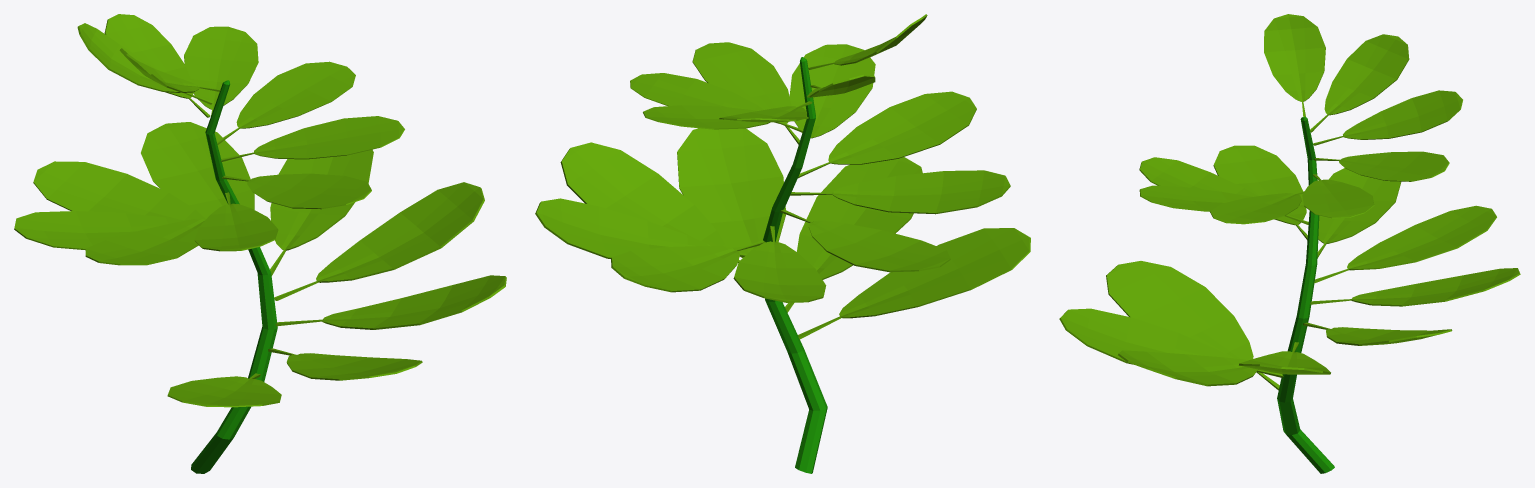
The model's file is FlowerGreen.fbx.
3 renders of one model, left to right at view 1: azimuth 30°, elevation 25°; view 2: azimuth 150°, elevation 25°; view 3: azimuth 270°, elevation 25°, orthographic. The views are drawn at different scales.
Visible parts, largest first — view 1: FlowerGreen; view 2: FlowerGreen; view 3: FlowerGreen.
Part boxes in pixels (x1,y1,x2,y2): FlowerGreen: (14,14,506,473); FlowerGreen: (535,14,1030,473); FlowerGreen: (1059,14,1520,473).
Size of the model in its own units: 9.55 by 10 by 10.04.
